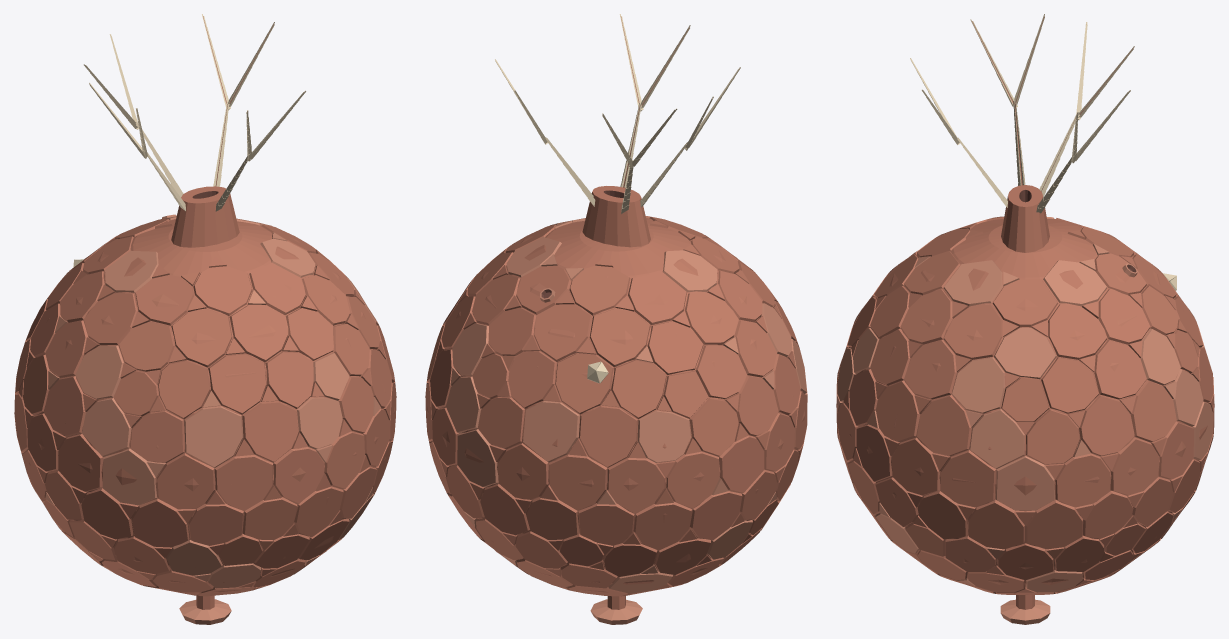
The model's file is echinosphaerites.glb.
3 renders of one model, left to right at view 1: azimuth 30°, elevation 25°; view 2: azimuth 150°, elevation 25°; view 3: azimuth 270°, elevation 25°, orthographic.
Parts seen in each view (by area): view 1: echinosphaerites-original-volume; view 2: echinosphaerites-original-volume; view 3: echinosphaerites-original-volume.
Boxes of the visible parts, left/top/right/bottom form: echinosphaerites-original-volume: left=14, top=14, right=396, bottom=624; echinosphaerites-original-volume: left=425, top=14, right=807, bottom=624; echinosphaerites-original-volume: left=836, top=14, right=1214, bottom=624.
Bounding box in the file's own units: 0.036 × 0.0577 × 0.036.
